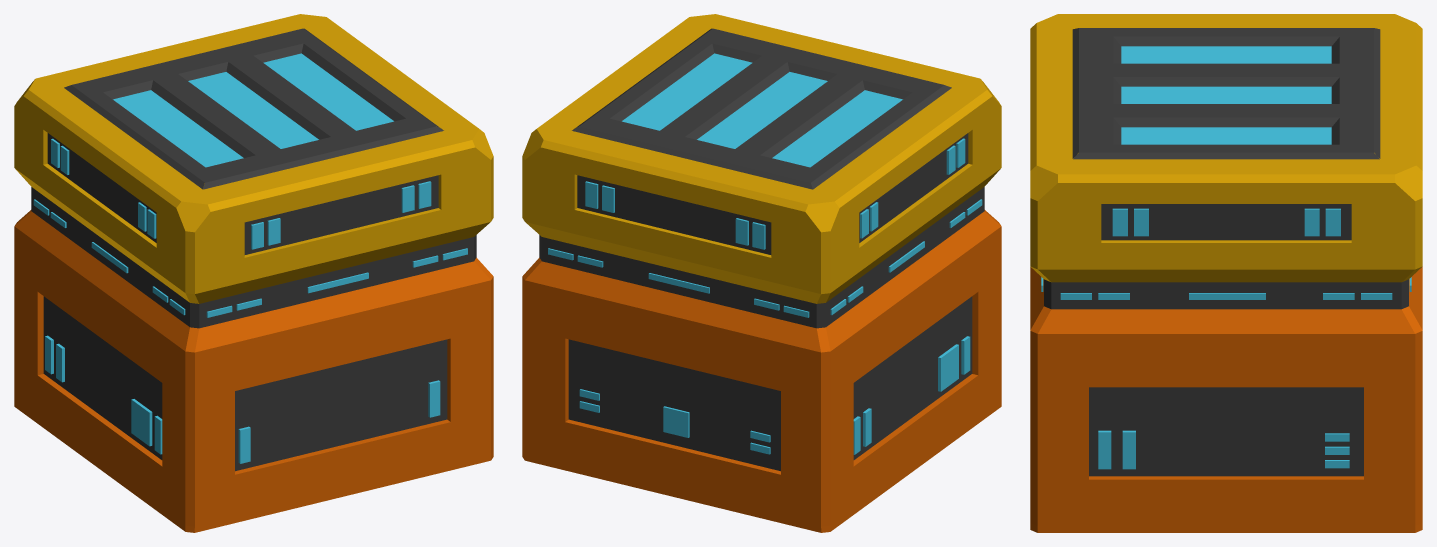
3 renders of one model, left to right at view 1: azimuth 30°, elevation 25°; view 2: azimuth 150°, elevation 25°; view 3: azimuth 270°, elevation 25°, orthographic. The views are drawn at different scales.
Visible parts, largest first — view 1: Box1; view 2: Box1; view 3: Box1.
Part boxes in pixels (bbox=[...]): Box1: bbox=[14, 14, 493, 532]; Box1: bbox=[522, 14, 1001, 532]; Box1: bbox=[1030, 14, 1422, 532].
Bounding box in the file's own units: 200 × 202 × 200.
